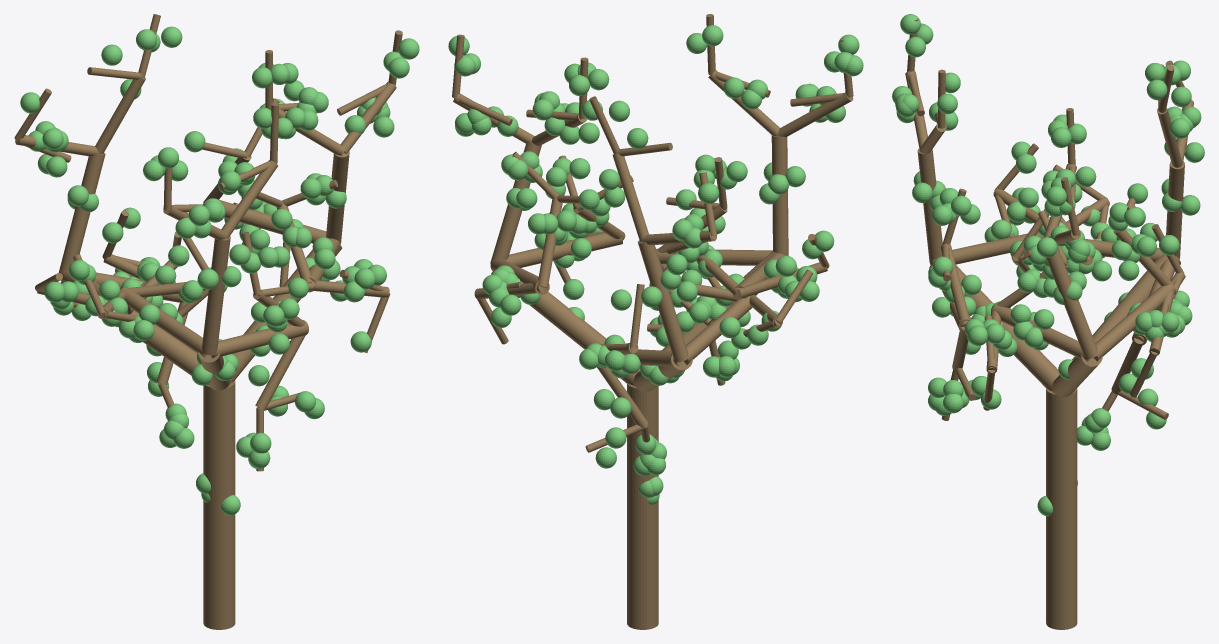
The picture shows the model from 3 angles, left to right: view 1: azimuth 30°, elevation 25°; view 2: azimuth 150°, elevation 25°; view 3: azimuth 270°, elevation 25°; orthographic projection. The views are drawn at different scales.
Parts seen in each view (by area): view 1: Branch_D0, Branch_D2.008, Branch_D2.004, Branch_D1.001, Branch_D2.006, Branch_D2.007, Branch_D2, Branch_D3.008, Branch_D3.016, Branch_D3.013, Branch_D2.001, Branch_D1 (+4 smaller); view 2: Branch_D0, Branch_D2.004, Branch_D1, Branch_D2.008, Branch_D2.002, Branch_D2, Branch_D2.005, Branch_D3.008, Branch_D3.017, Branch_D2.006, Branch_D3.003, Branch_D3.007 (+4 smaller); view 3: Branch_D0, Branch_D2, Branch_D1.002, Branch_D2.001, Branch_D1.001, Branch_D2.008, Branch_D2.007, Branch_D2.004, Branch_D2.002, Branch_D1, Branch_D3.012, Branch_D3.008 (+2 smaller).
Part boxes in pixels (box(x1,y1,x2,y2)): Branch_D0: box(203, 380, 235, 629); Branch_D2.008: box(202, 236, 230, 355); Branch_D2.004: box(58, 153, 105, 273); Branch_D1.001: box(61, 280, 208, 384); Branch_D2.006: box(211, 320, 308, 358); Branch_D2.007: box(121, 287, 206, 357); Branch_D2: box(326, 151, 349, 242); Branch_D3.008: box(95, 77, 145, 153); Branch_D3.016: box(221, 160, 277, 238); Branch_D3.013: box(255, 335, 305, 410); Branch_D2.001: box(219, 200, 326, 243); Branch_D1: box(230, 236, 341, 383); Branch_D0: box(627, 383, 658, 629); Branch_D2.004: box(637, 240, 688, 362); Branch_D1: box(491, 260, 640, 385); Branch_D2.008: box(771, 135, 788, 255); Branch_D2.002: box(507, 232, 622, 267); Branch_D2: box(490, 142, 541, 263); Branch_D2.005: box(684, 294, 754, 364); Branch_D3.008: box(612, 153, 648, 241); Branch_D3.017: box(778, 92, 853, 137); Branch_D2.006: box(656, 248, 772, 265); Branch_D3.003: box(538, 197, 562, 288); Branch_D3.007: box(597, 366, 648, 428); Branch_D0: box(1046, 388, 1077, 629); Branch_D2: box(1046, 246, 1097, 359); Branch_D1.002: box(929, 256, 1059, 390); Branch_D2.001: box(1094, 283, 1176, 361); Branch_D1.001: box(1072, 254, 1180, 359); Branch_D2.008: box(917, 149, 942, 261); Branch_D2.007: box(952, 232, 1043, 264); Branch_D2.004: box(1166, 161, 1184, 258); Branch_D2.002: box(991, 304, 1089, 361); Branch_D1: box(1052, 354, 1102, 397); Branch_D3.012: box(940, 244, 969, 326); Branch_D3.008: box(1157, 108, 1182, 167).
Size of the model in its own units: 8.03 by 11.79 by 6.04.
